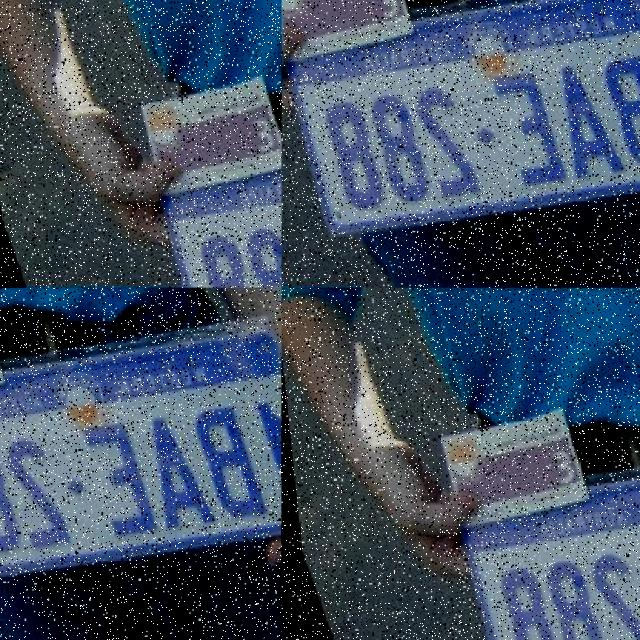licenseplate: (452, 455, 640, 640), (185, 394, 282, 631), (282, 0, 362, 68)
